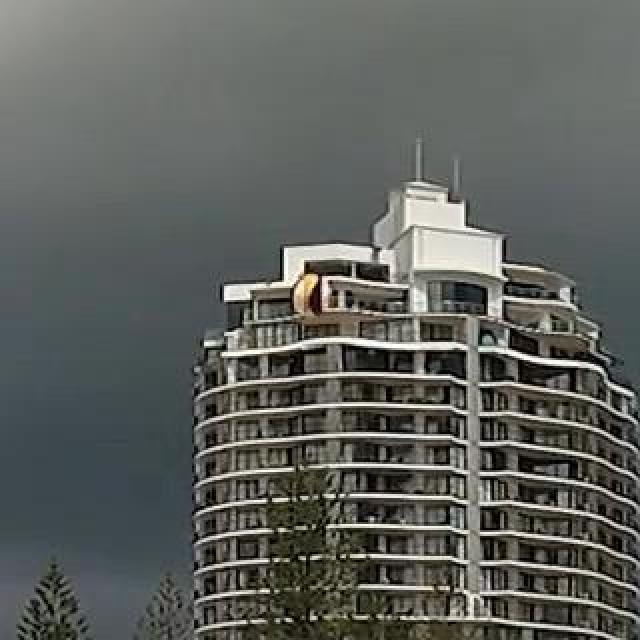volleyball: (294, 273, 336, 317)
